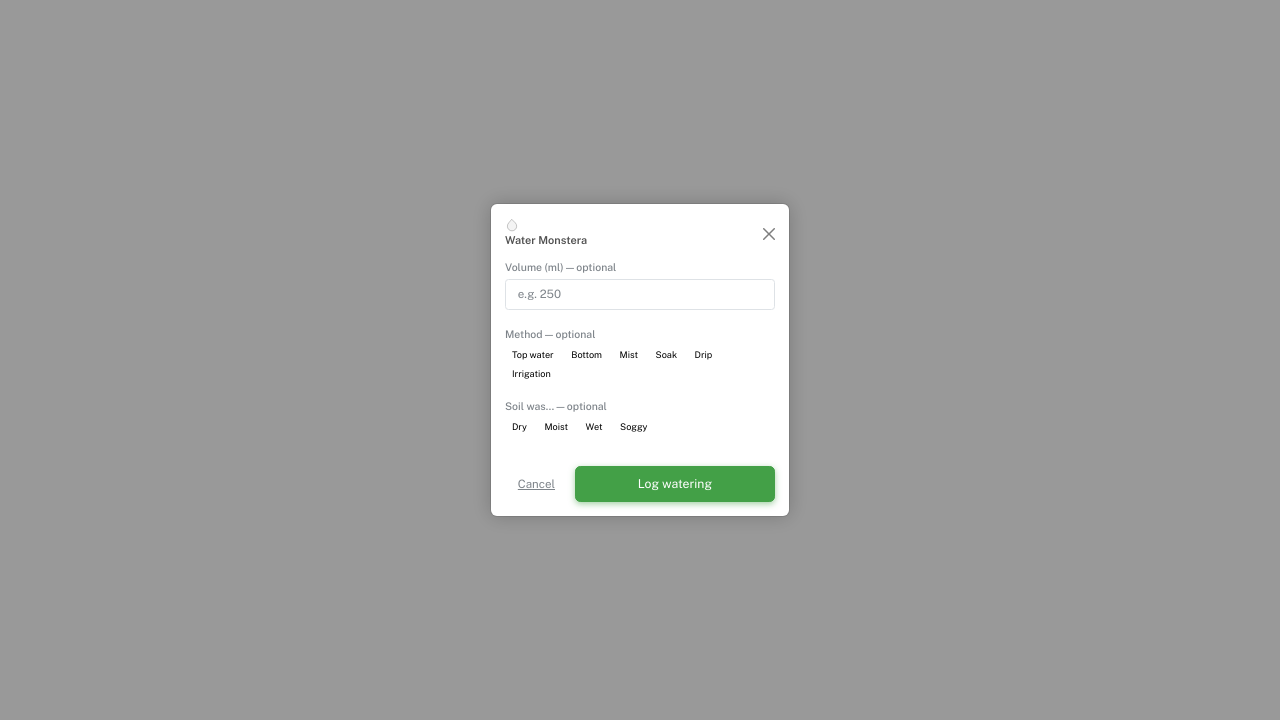
Test case: WateringSheet › shows drained-cleanly toggle when method is set to top
Expected: the text "Drained cleanly?" is not shown
Click the button "Top water" at (533, 354), box [505,346,561,362]
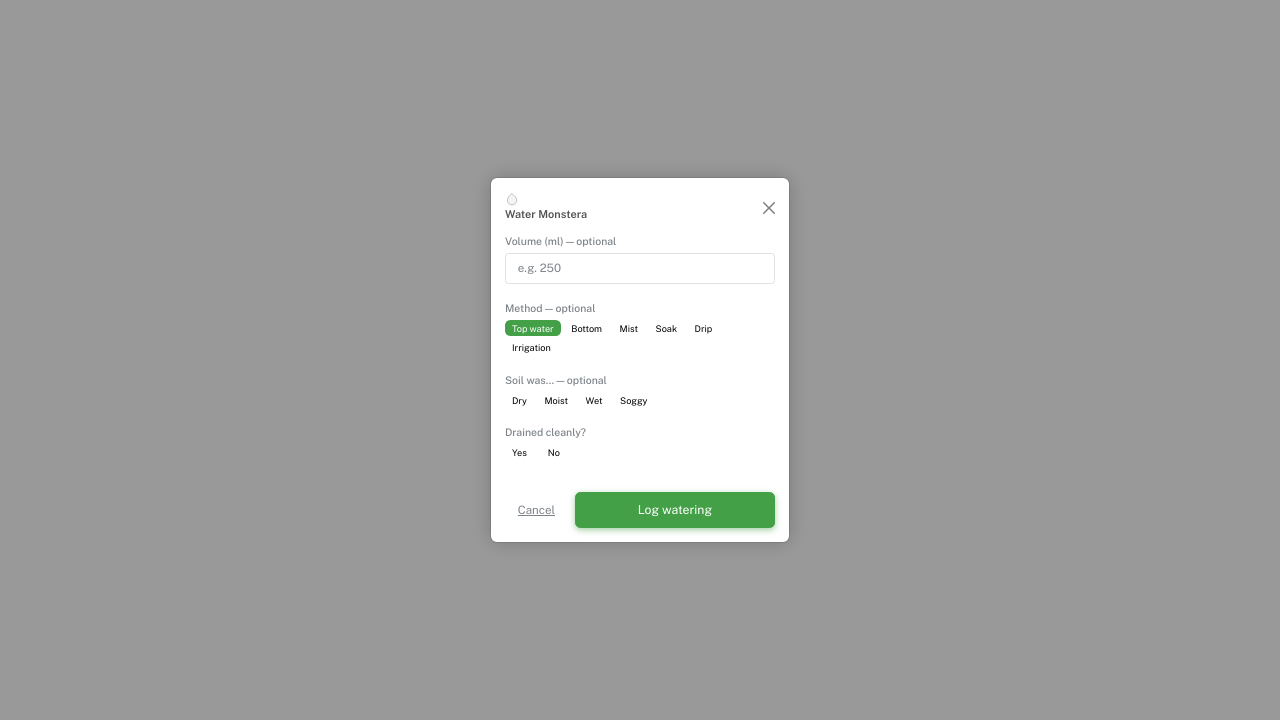
Now the text "Drained cleanly?" is shown, box [505,424,586,441]
